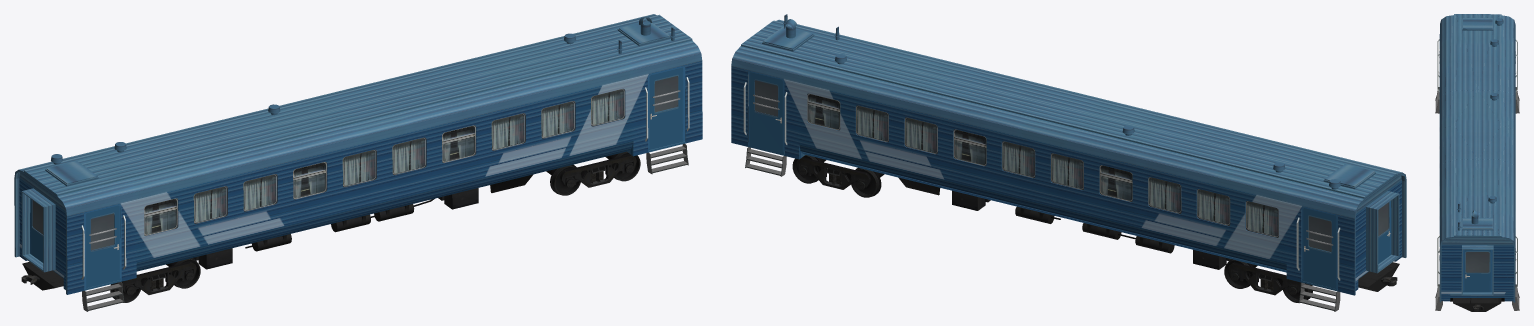
Rendered from Train03Intervip_1Passenger.FBX.
3 renders of one model, left to right at view 1: azimuth 30°, elevation 25°; view 2: azimuth 150°, elevation 25°; view 3: azimuth 270°, elevation 25°, orthographic. The views are drawn at different scales.
Parts seen in each view (by area): view 1: Train03Intervip_1Passenger, Train03Intervip_1WheelsPas, Train03Intervip_Stairs, Train03Intervip_1Wheel03Pas; view 2: Train03Intervip_1Passenger, Train03Intervip_1WheelsPas, Train03Intervip_Stairs, Train03Intervip_1Wheel03Pas; view 3: Train03Intervip_1Passenger, Train03Intervip_1WheelsPas, Train03Intervip_Stairs.
Boxes of the visible parts, x1=… form: Train03Intervip_1Passenger: x1=14, y1=14, x2=702, y2=294; Train03Intervip_1WheelsPas: x1=21, y1=154, x2=636, y2=294; Train03Intervip_Stairs: x1=82, y1=143, x2=688, y2=311; Train03Intervip_1Wheel03Pas: x1=546, y1=164, x2=581, y2=195; Train03Intervip_1Passenger: x1=731, y1=14, x2=1406, y2=295; Train03Intervip_1WheelsPas: x1=796, y1=157, x2=1399, y2=295; Train03Intervip_Stairs: x1=745, y1=147, x2=1340, y2=311; Train03Intervip_1Wheel03Pas: x1=850, y1=167, x2=884, y2=197; Train03Intervip_1Passenger: x1=1437, y1=14, x2=1517, y2=302; Train03Intervip_1WheelsPas: x1=1453, y1=298, x2=1501, y2=311; Train03Intervip_Stairs: x1=1435, y1=87, x2=1519, y2=310.
Bounding box in the file's own units: 1348 × 277 × 206.
